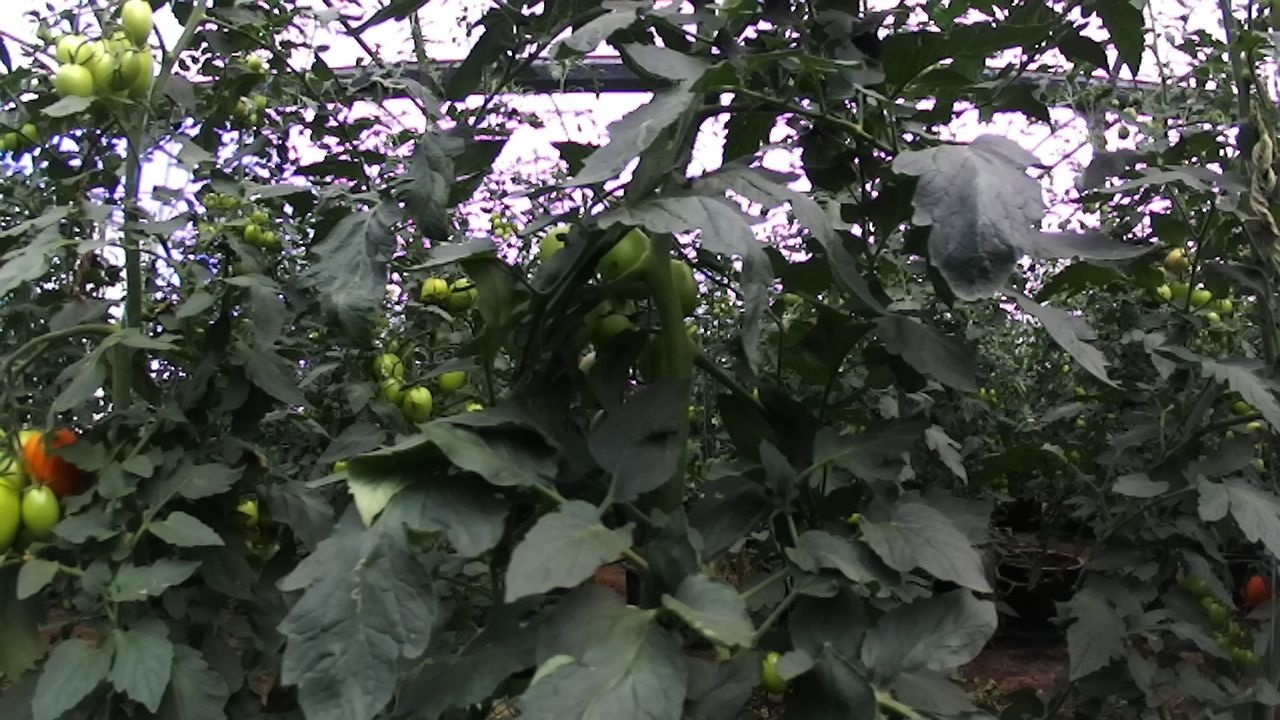tomato: (593, 214, 666, 302), (21, 414, 94, 499), (19, 473, 72, 543), (47, 55, 98, 112), (125, 39, 162, 99), (1157, 236, 1203, 283), (50, 25, 98, 70), (116, 0, 159, 50), (226, 489, 269, 530), (107, 43, 142, 93), (436, 353, 474, 395), (402, 380, 440, 422), (369, 347, 408, 387), (444, 274, 485, 312), (373, 372, 412, 407), (417, 273, 452, 308), (1188, 281, 1216, 312)
